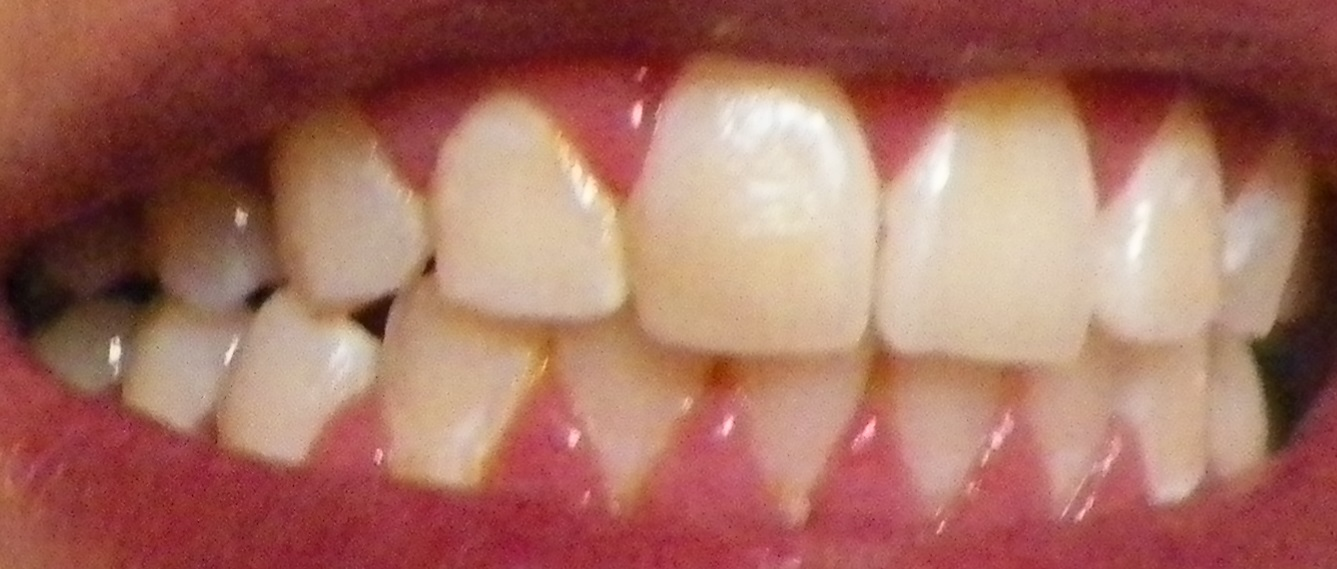boca: (46, 61, 1301, 496)
